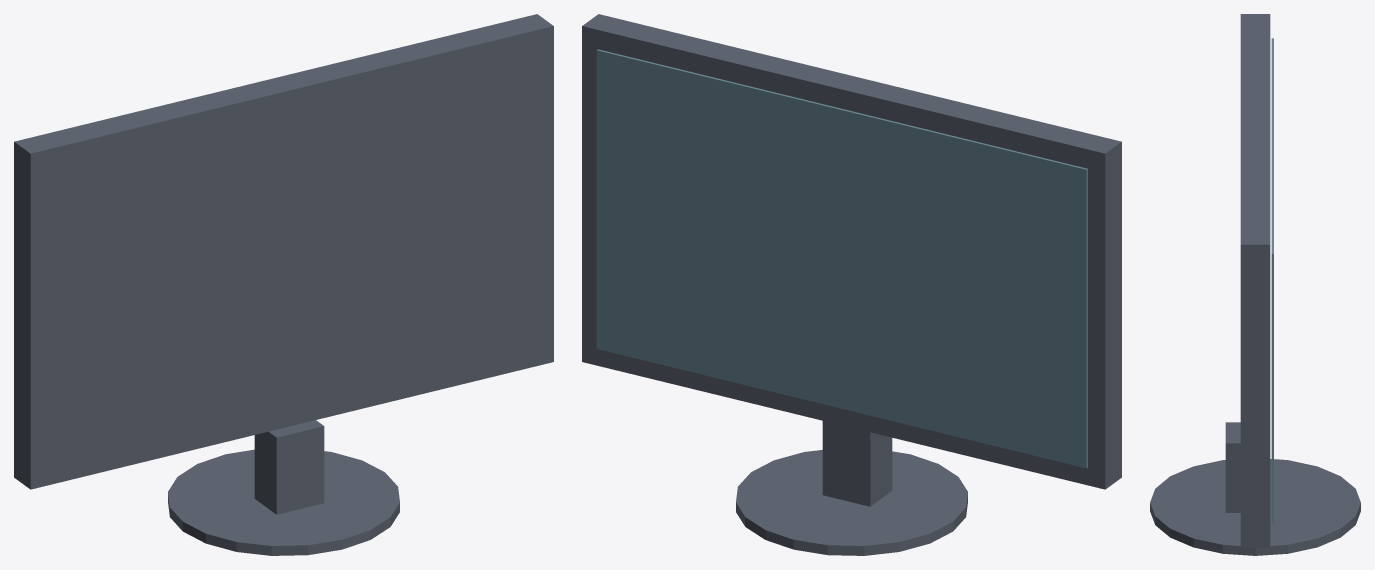
Rendered from wafer-monitor-2.glb.
3 views of the same model, side by side, from view 1: azimuth 30°, elevation 25°; view 2: azimuth 150°, elevation 25°; view 3: azimuth 270°, elevation 25° (orthographic). The views are drawn at different scales.
Visible parts, largest first — view 1: black monitor frame, black stand foot, black support neck; view 2: screen panel, black monitor frame, black stand foot, black support neck; view 3: black monitor frame, black stand foot, screen panel, black support neck.
Boxes of the visible parts, <box> form: black monitor frame: <box>14,14,553,489</box>; black stand foot: <box>168,449,399,555</box>; black support neck: <box>254,420,324,514</box>; screen panel: <box>596,49,1087,468</box>; black monitor frame: <box>582,14,1121,489</box>; black stand foot: <box>736,450,967,555</box>; black support neck: <box>822,421,892,506</box>; black monitor frame: <box>1240,14,1270,547</box>; black stand foot: <box>1150,459,1360,555</box>; screen panel: <box>1271,38,1273,523</box>; black support neck: <box>1225,422,1240,512</box>.
Bounding box in the file's own units: 0.44 × 0.34 × 0.17.
